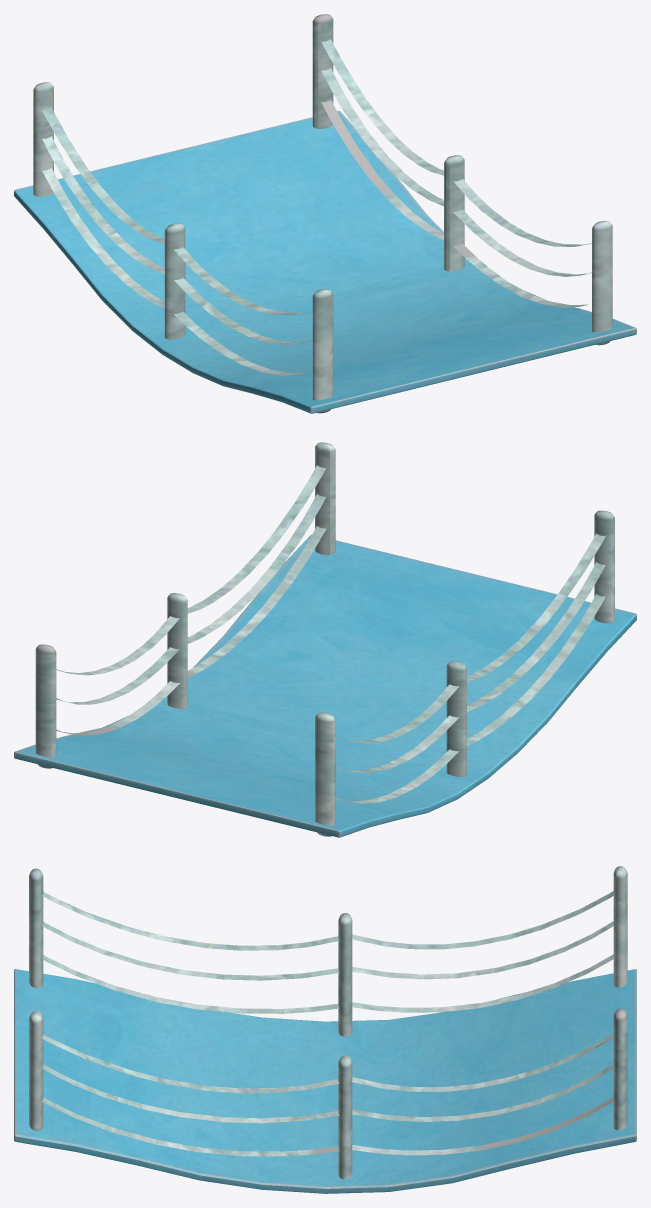
Rendered from Niflheim_Forge_Ice_Bridge_Ropes.glb.
3 renders of one model, top to bottom at view 1: azimuth 30°, elevation 25°; view 2: azimuth 150°, elevation 25°; view 3: azimuth 270°, elevation 25°, orthographic. The views are drawn at different scales.
Visible parts, largest first — view 1: Ice Bridge: full ropes, no stars or triangular sign; view 2: Ice Bridge: full ropes, no stars or triangular sign; view 3: Ice Bridge: full ropes, no stars or triangular sign.
Part boxes in pixels (left/top/right/bottom): Ice Bridge: full ropes, no stars or triangular sign: left=14, top=14, right=636, bottom=413; Ice Bridge: full ropes, no stars or triangular sign: left=14, top=442, right=636, bottom=837; Ice Bridge: full ropes, no stars or triangular sign: left=14, top=866, right=636, bottom=1193.
Size of the model in its own units: 7.6 by 3.71 by 12.
1 material, 1 textured.
